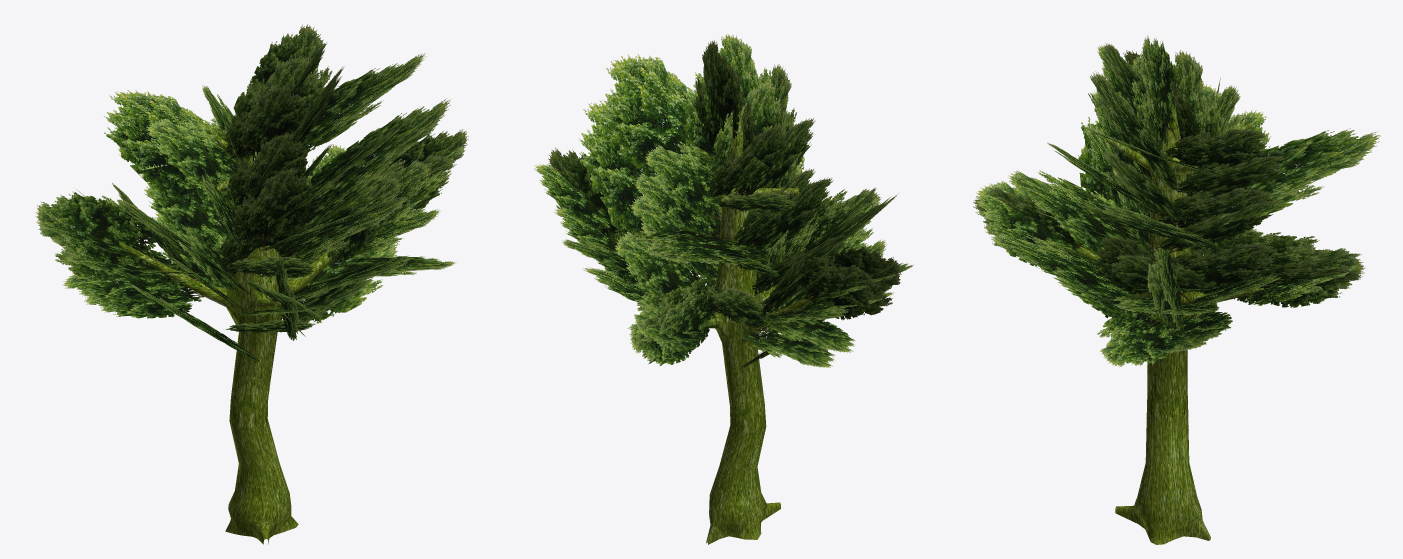
Rendered from tree C.FBX.
3 renders of one model, left to right at view 1: azimuth 30°, elevation 25°; view 2: azimuth 150°, elevation 25°; view 3: azimuth 270°, elevation 25°, orthographic. The views are drawn at different scales.
Visible parts, largest first — view 1: Box001; view 2: Box001; view 3: Box001.
Part boxes in pixels (x1=…): Box001: x1=35, y1=24, x2=468, y2=544; Box001: x1=533, y1=34, x2=913, y2=544; Box001: x1=973, y1=35, x2=1380, y2=544.
Bounding box in the file's own units: 41.91 × 46.58 × 34.33.
